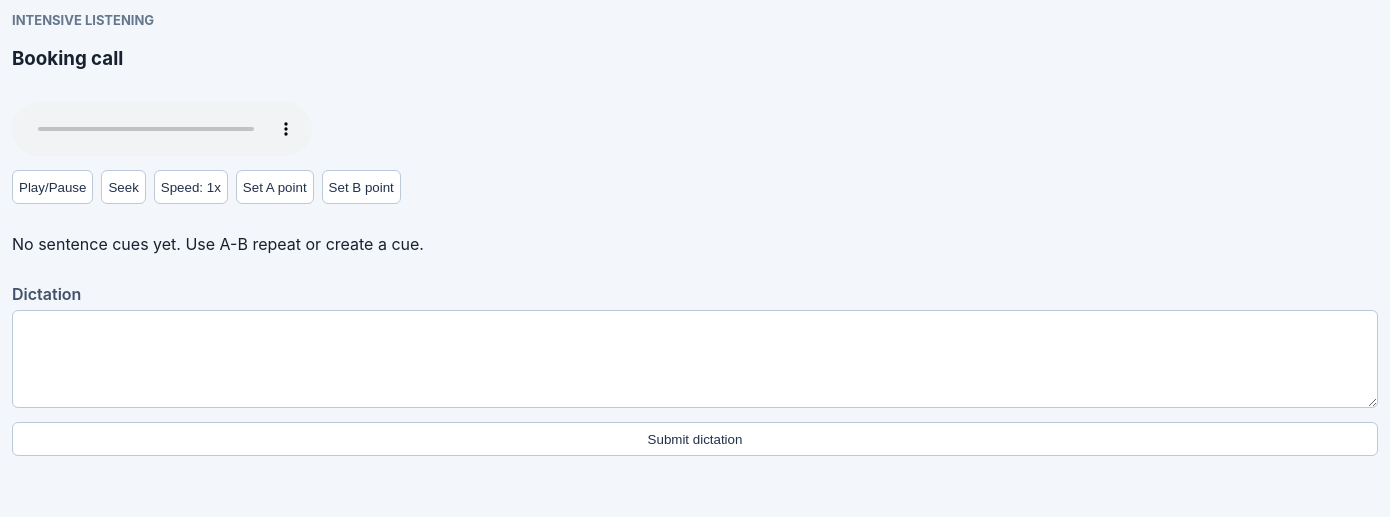
Scenario: intensive study components › clears an active A-B loop during intensive listening
Click the button "Set A point" at (275, 187), box [236, 170, 314, 204]
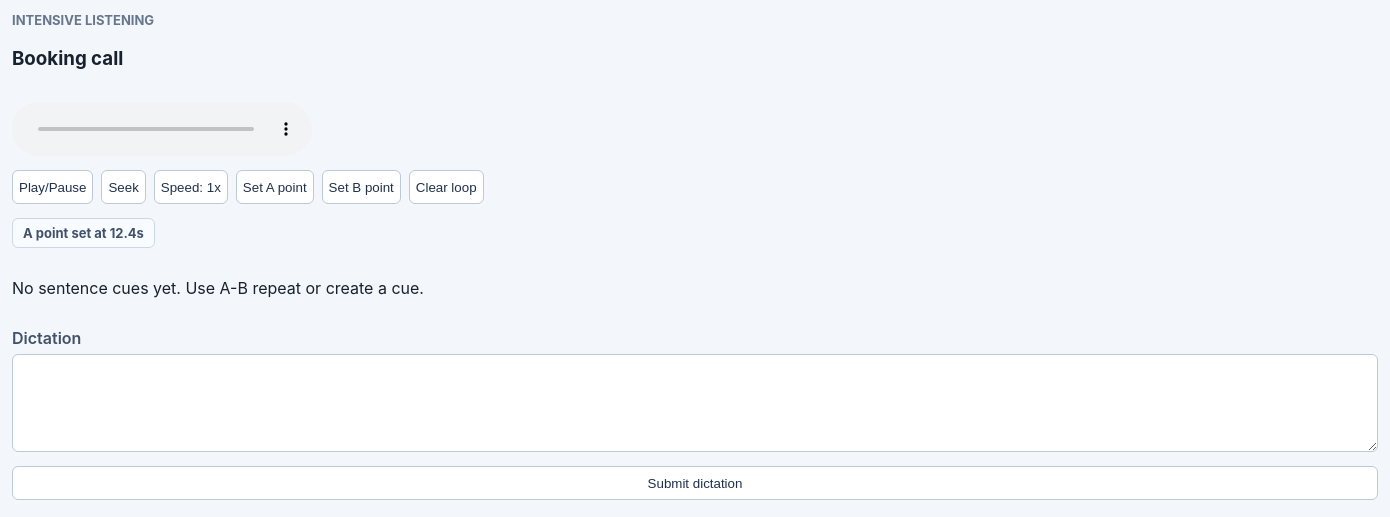
Click the button "Set B point" at (361, 187), box [322, 170, 401, 204]
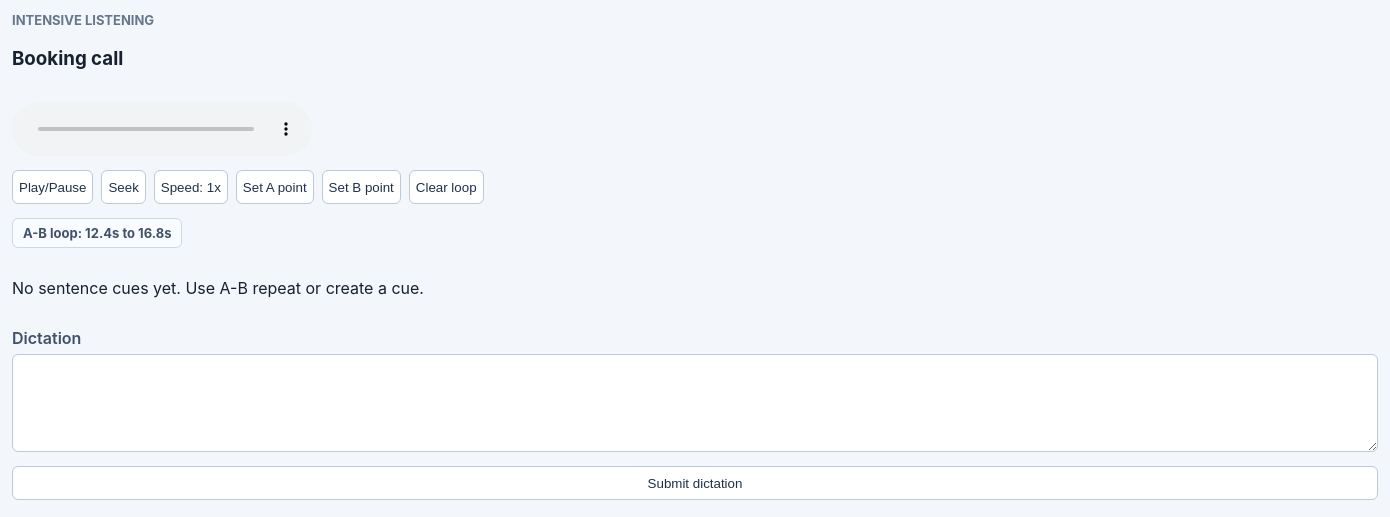
Click the button "Clear loop" at (446, 187), box [409, 170, 484, 204]
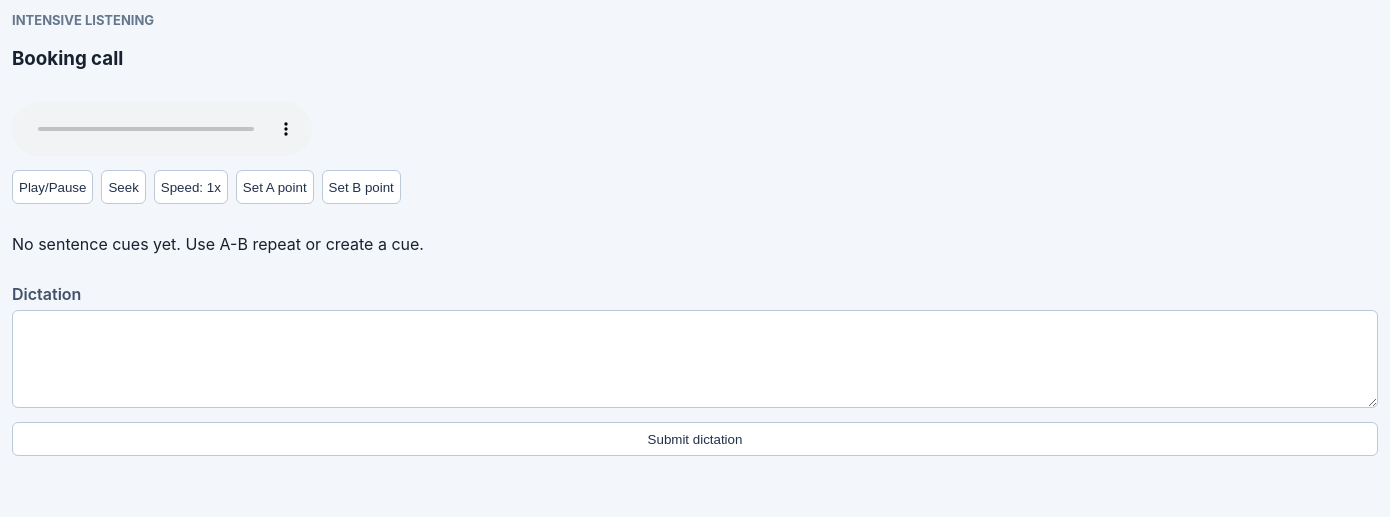
Expected: the text "A-B loop: 12.4s to 16.8s" is gone
